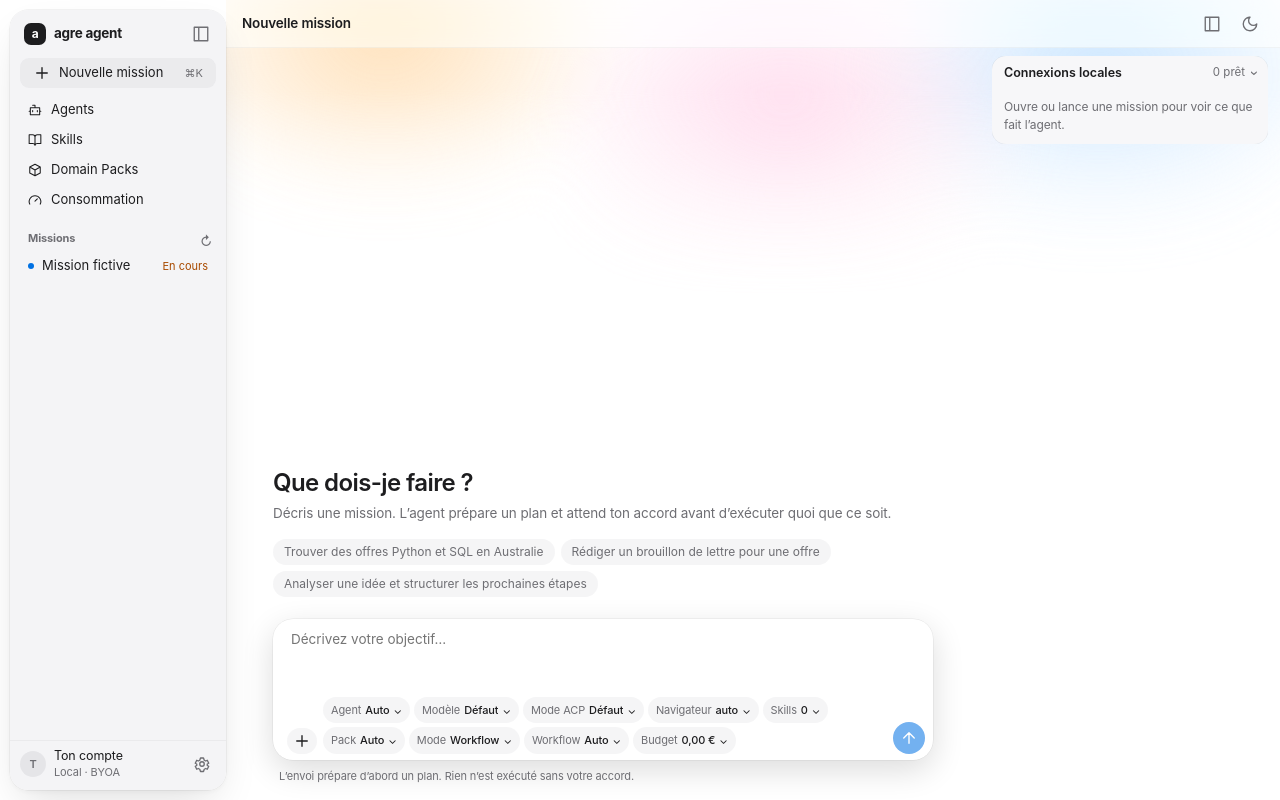
Scenario: instruction mise en file pendant une mission › une mission annulée n'envoie rien et rend le texte à l'utilisateur
Click the text "Mission fictive".
click(86, 265)  # box [42, 257, 130, 273]
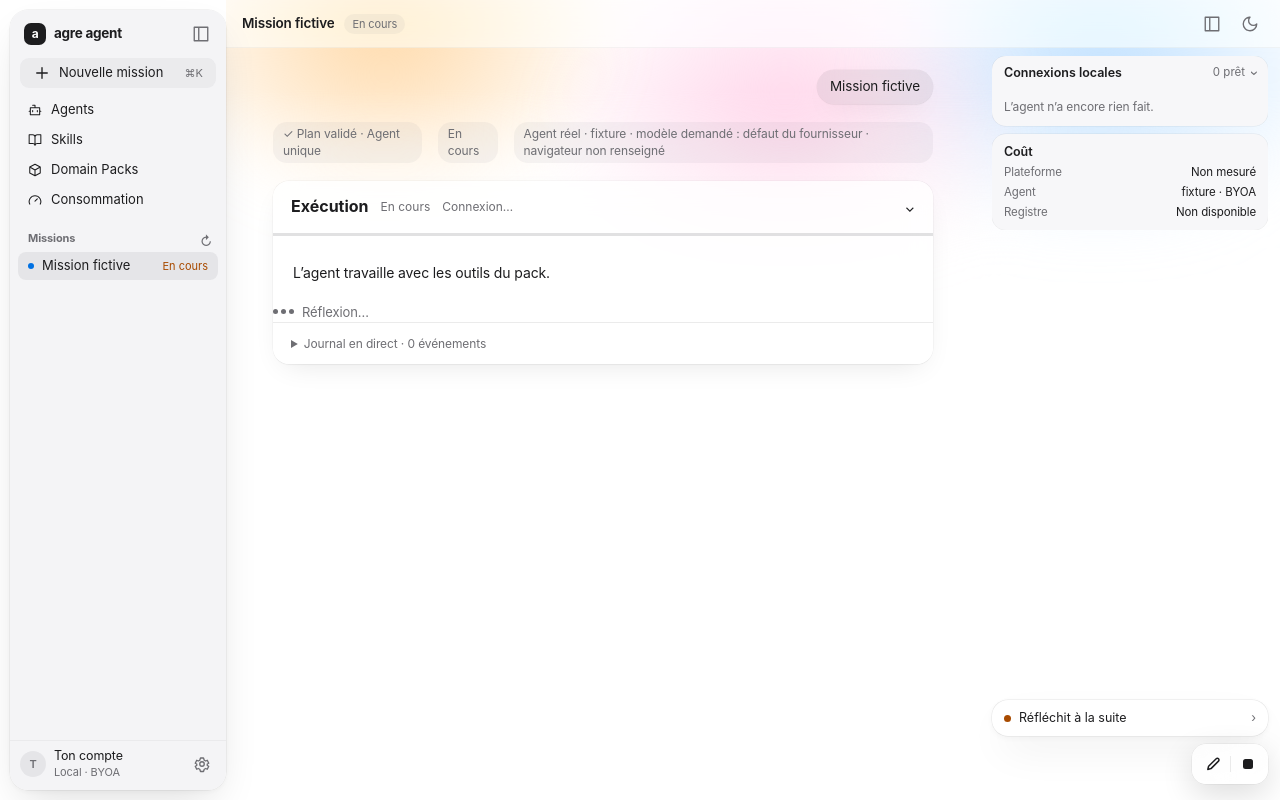
Click the button named "Ajouter une instruction".
click(1212, 764)  # box [1196, 748, 1228, 780]
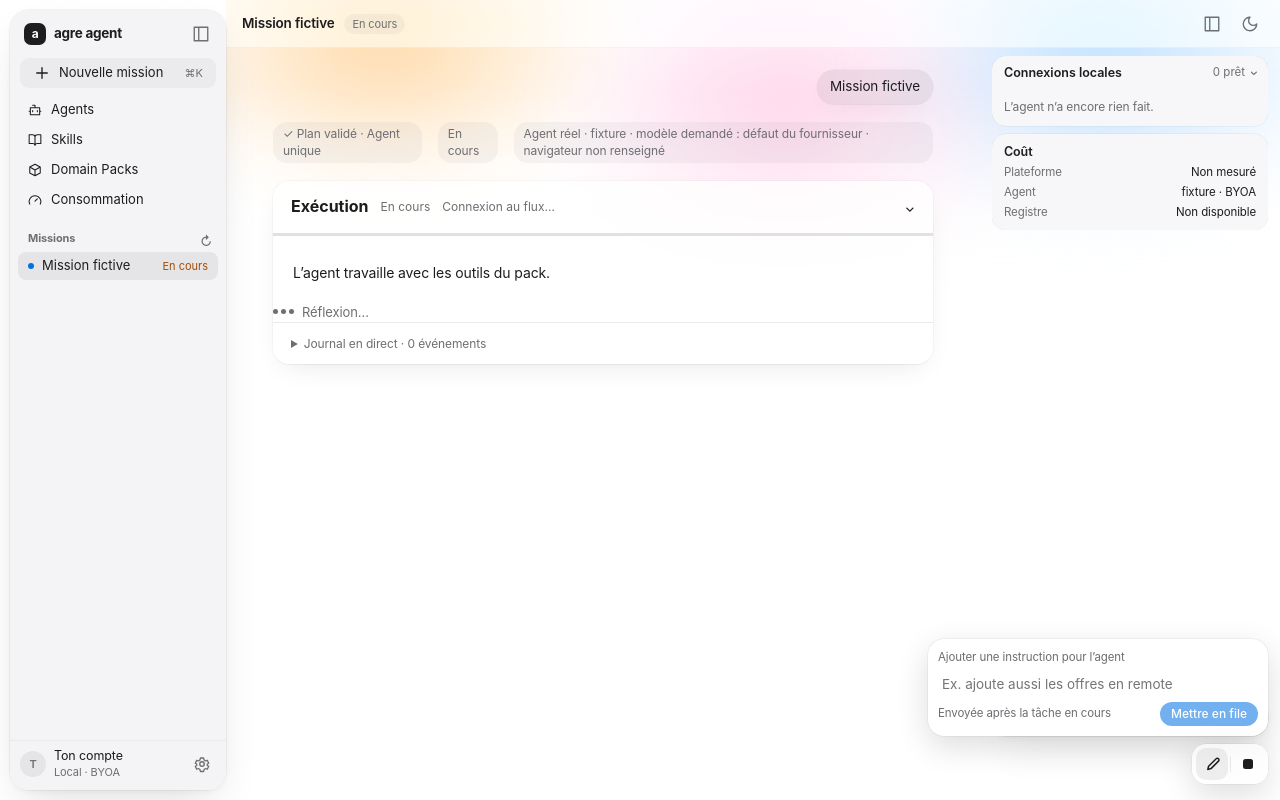
Type "Aussi en remote" into the text box labelled "Ajouter une instruction pour l’agent".
click(1098, 684); type("Aussi en remote")  # box [938, 672, 1258, 696]
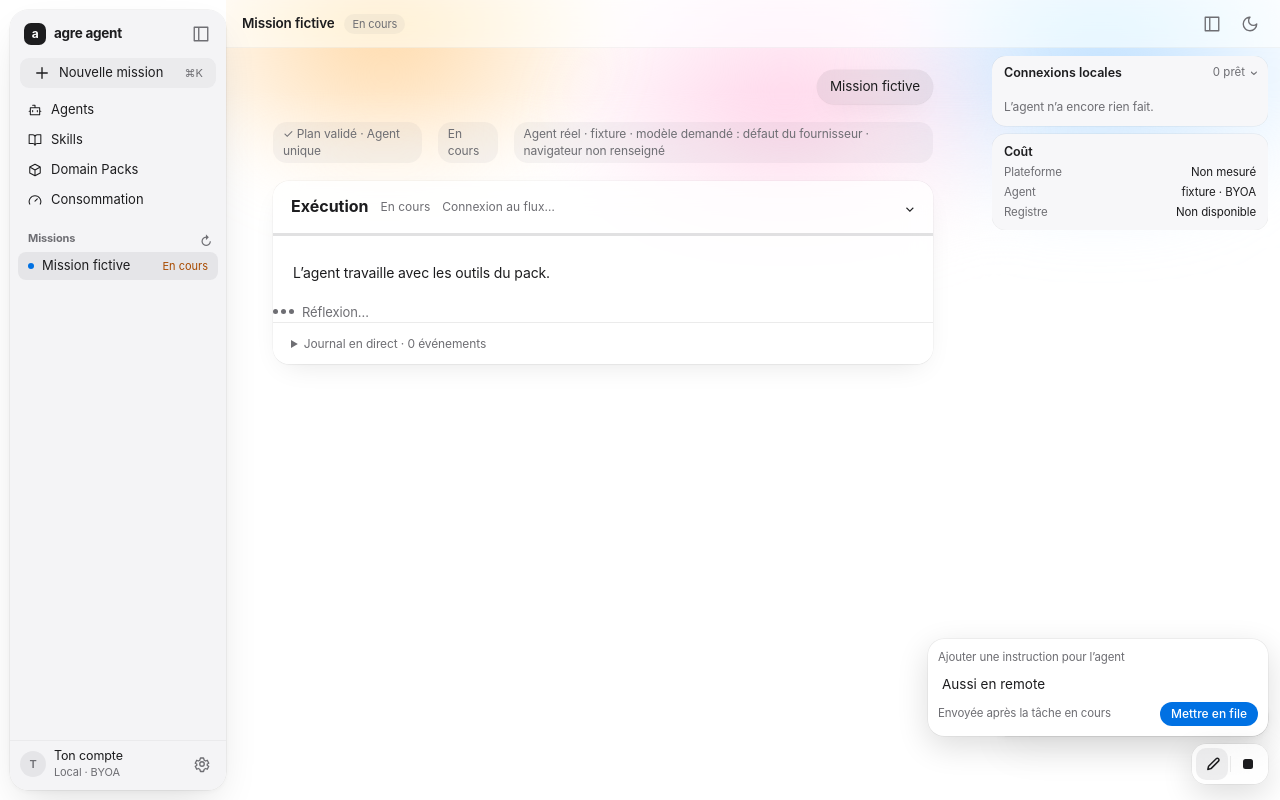
Press Enter in the text box labelled "Ajouter une instruction pour l’agent", box [938, 672, 1258, 696]
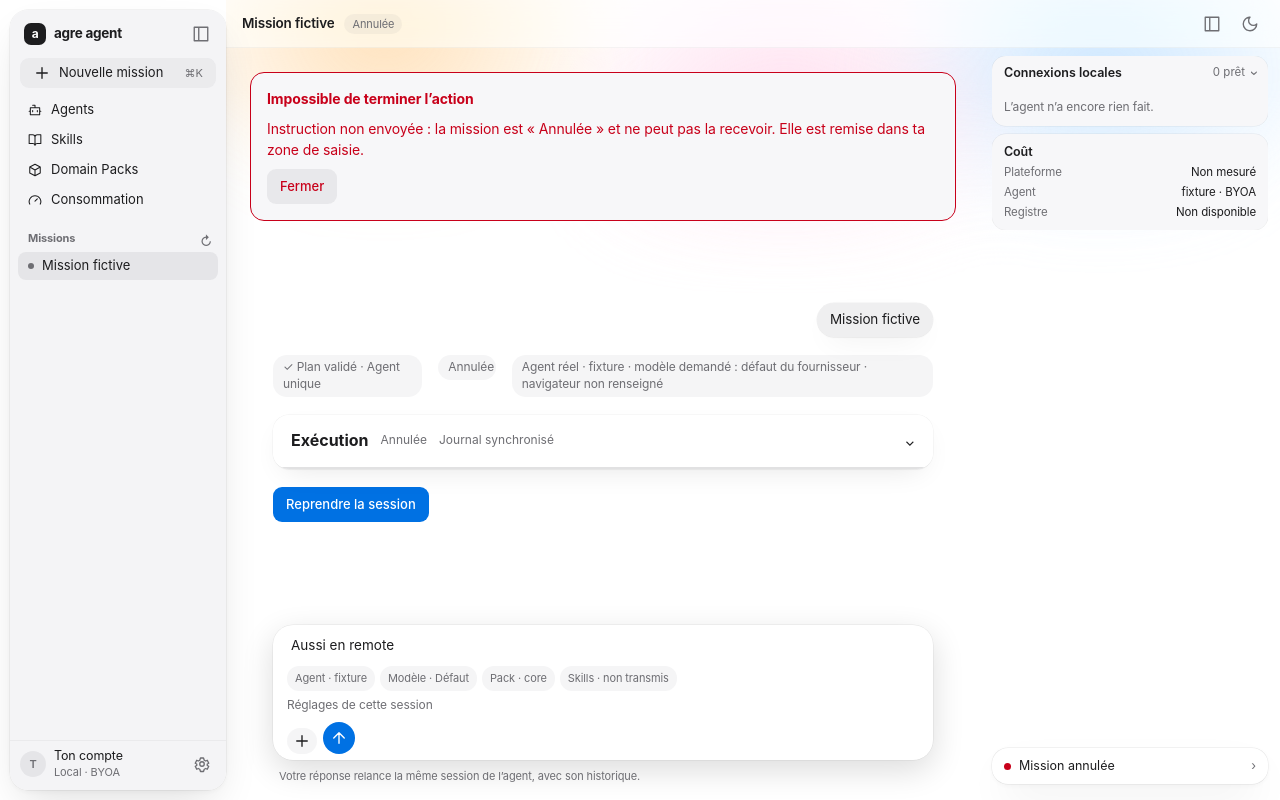
Now the text "Instruction non envoyée" is shown, box [267, 120, 925, 158]
Now the text box named "Objectif de la mission" holds "Aussi en remote", box [287, 633, 925, 657]
